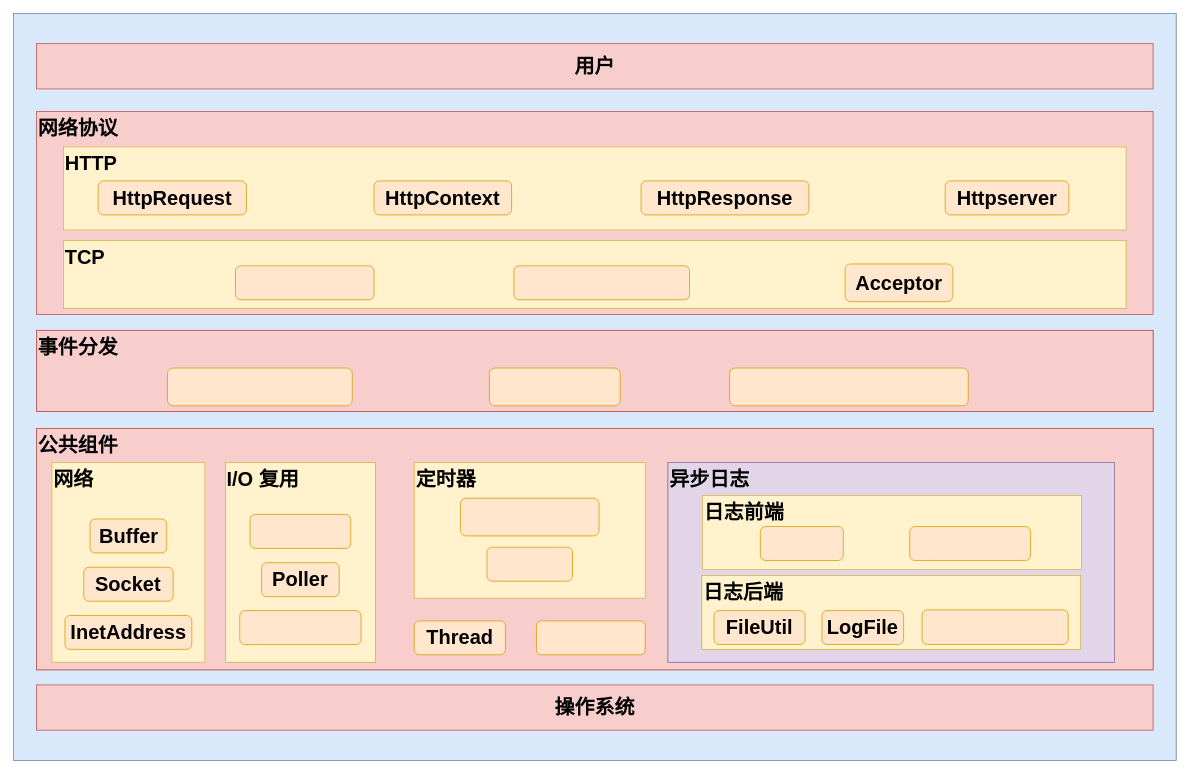
Image size: 1190x774. Some labels were removed from this diagram. The centre of each missing label's shape, as x and y in pixels:
"AsyncLogging" goes at pixel 994 626.
"Channel" goes at pixel 300 531.
"EpollPoller" goes at pixel 300 627.
"EventLoop" goes at pixel 554 386.
"EventLoopThread" goes at pixel 259 386.
"EventLoopThreadPool" goes at pixel 848 386.
"Logger" goes at pixel 801 543.
"LogStream" goes at pixel 970 543.
"TcpConnection" goes at pixel 601 282.
"TcpServer" goes at pixel 304 282.
"Timer" goes at pixel 529 563.
"TimerQueue" goes at pixel 529 516.
"Timestamp" goes at pixel 590 637.
